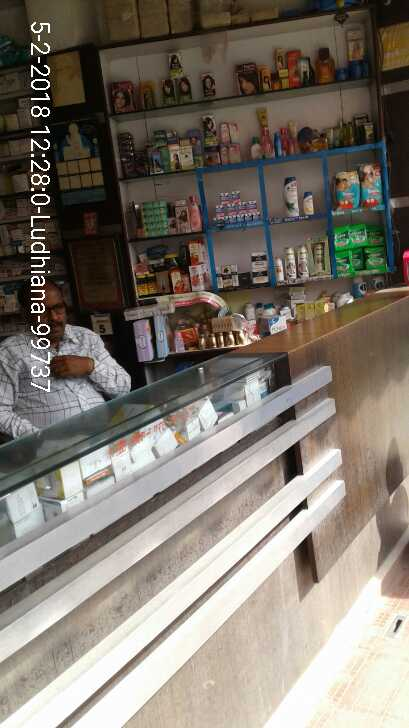vicks: (207, 184, 263, 234)
